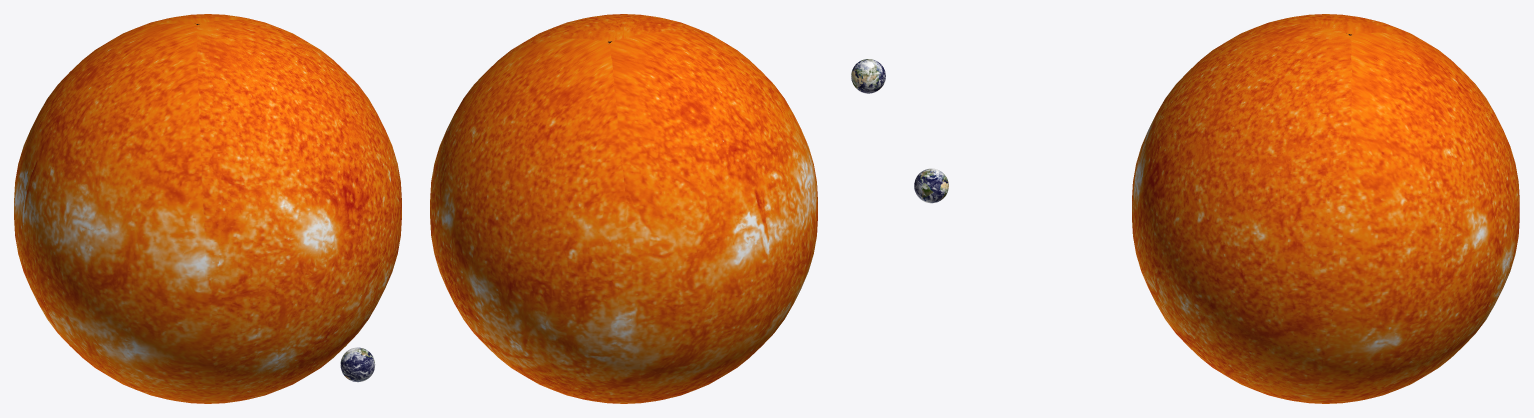
Rendered from asd.fbx.
3 renders of one model, left to right at view 1: azimuth 30°, elevation 25°; view 2: azimuth 150°, elevation 25°; view 3: azimuth 270°, elevation 25°, orthographic.
Visible parts, largest first — view 1: pSphere1, pSphere2; view 2: pSphere1, pSphere2; view 3: pSphere1, pSphere2.
Part boxes in pixels (<box>): pSphere1: <box>14,14,401,403</box>; pSphere2: <box>340,347,375,382</box>; pSphere1: <box>430,14,817,403</box>; pSphere2: <box>851,59,885,93</box>; pSphere1: <box>1132,14,1519,403</box>; pSphere2: <box>914,168,948,203</box>.
Bounding box in the file's own units: 35.68 × 35.68 × 55.4.
Materials: 2 (2 with a texture image).
